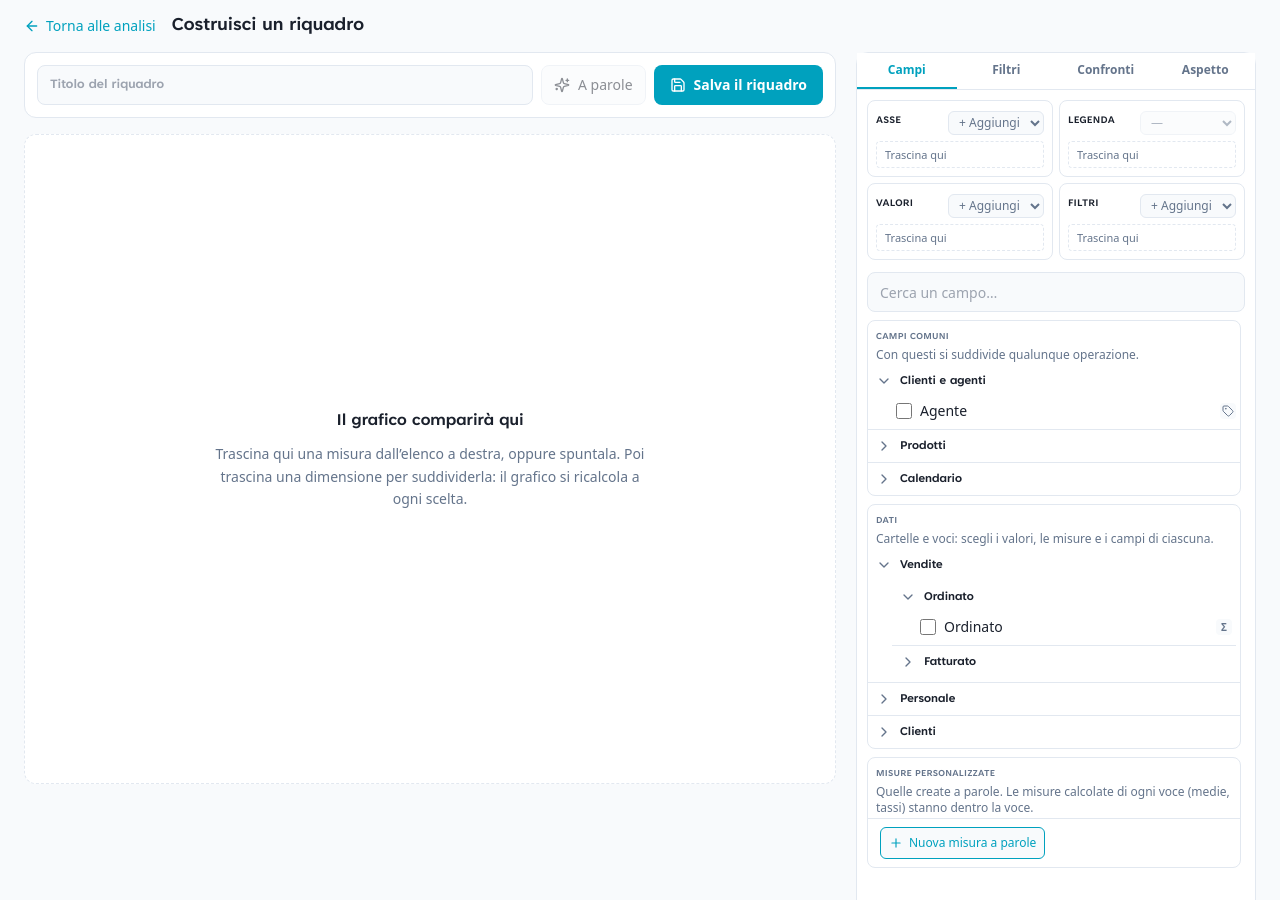
Scenario: builder a pannello laterale › cerca un campo e tiene aperti i gruppi che corrispondono
Expected: the tab "Campi" is shown, [857,53,956,89]
Type "agen" into the search field labelled "Cerca un campo" at (1056, 292), box [867,272,1245,312]
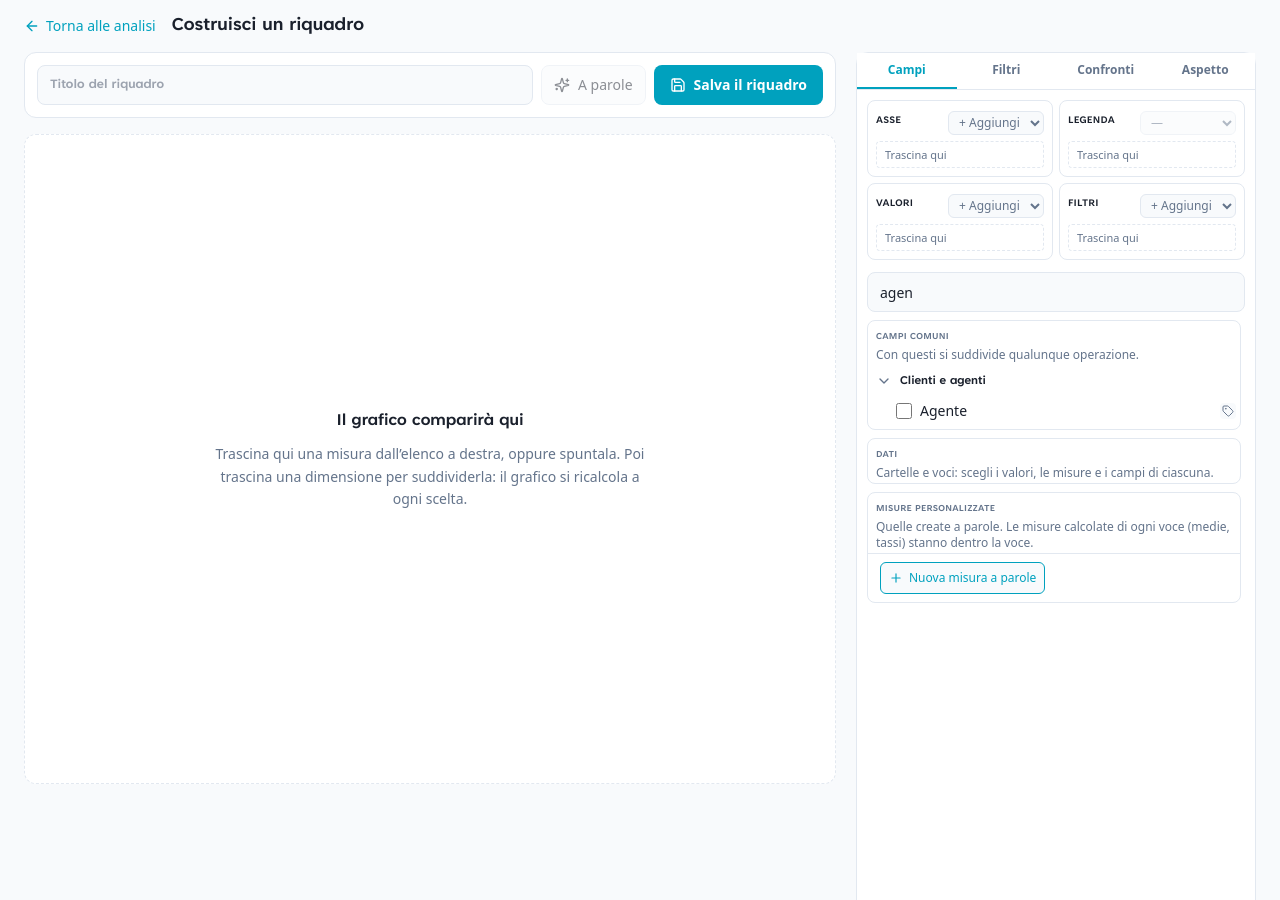
Expected: the checkbox labelled "Agente" is shown, [896,403,912,419]
Expected: the button labelled "Ordinato" is gone
Replace the text in the search field named "Cerca un campo" with "zzz" at (1056, 292), box [867,272,1245,312]
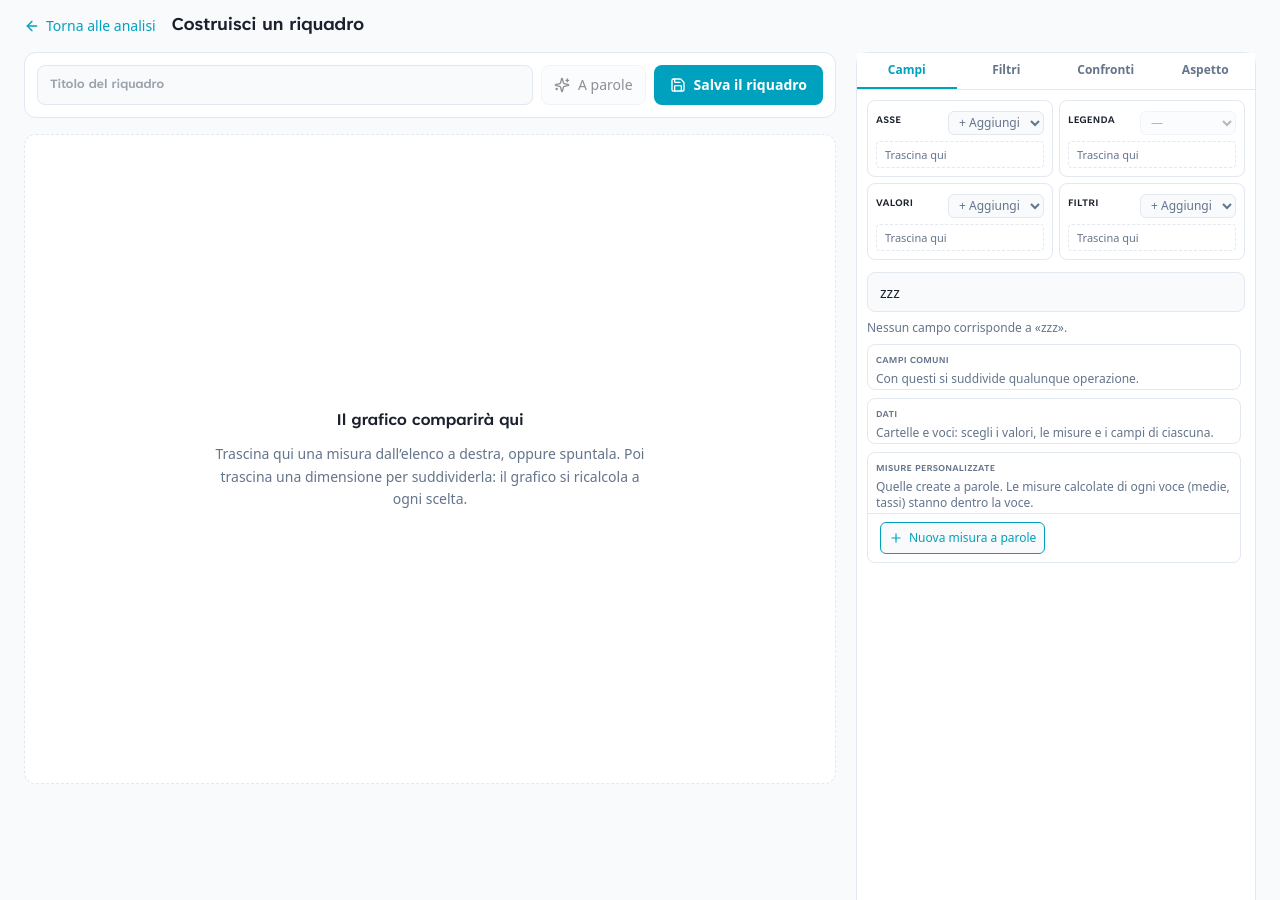
Expected: the text "Nessun campo corrisponde a «zzz»." is shown, [867,319,1067,336]
